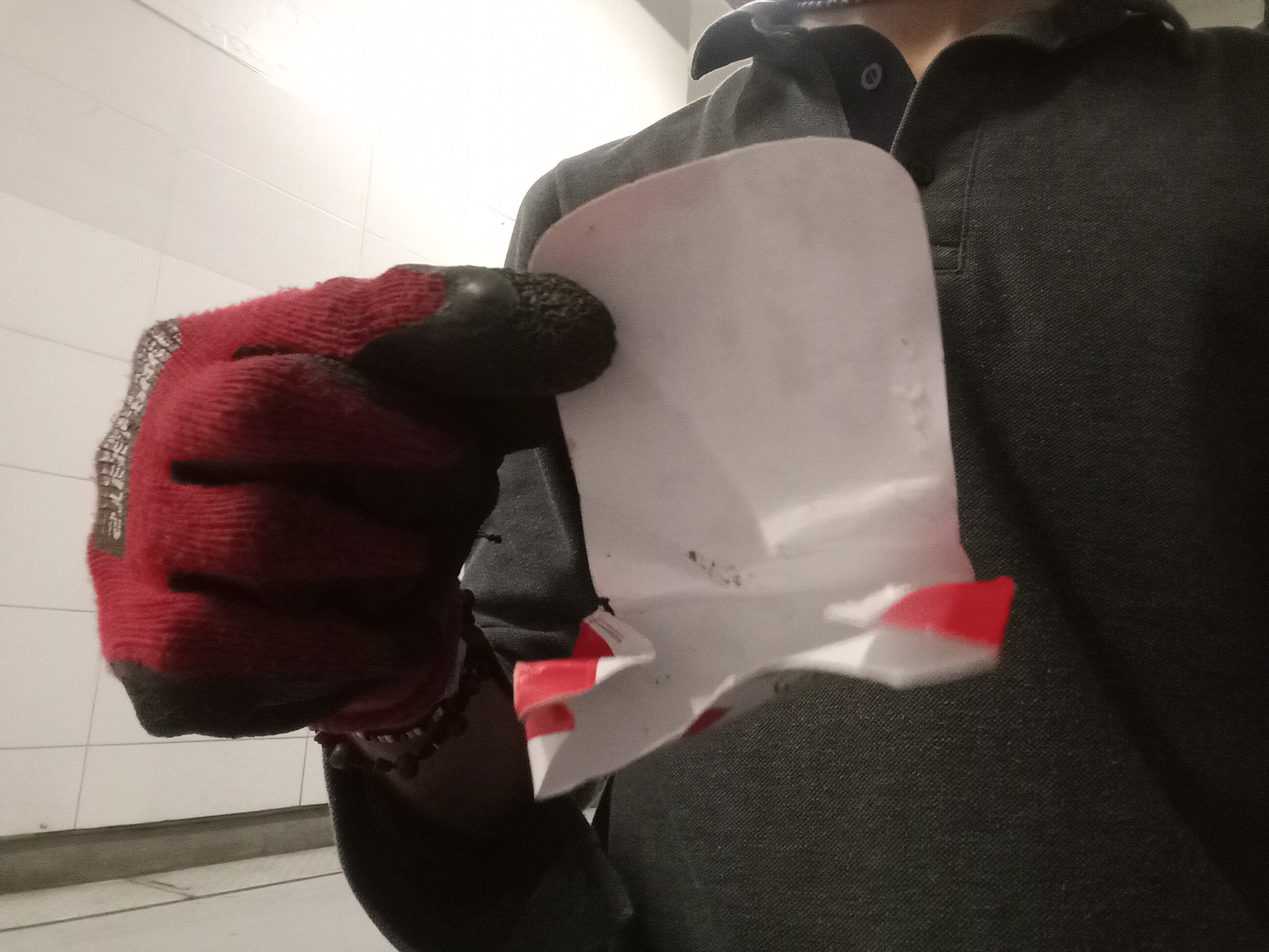Carton: (500, 138, 1011, 797)
